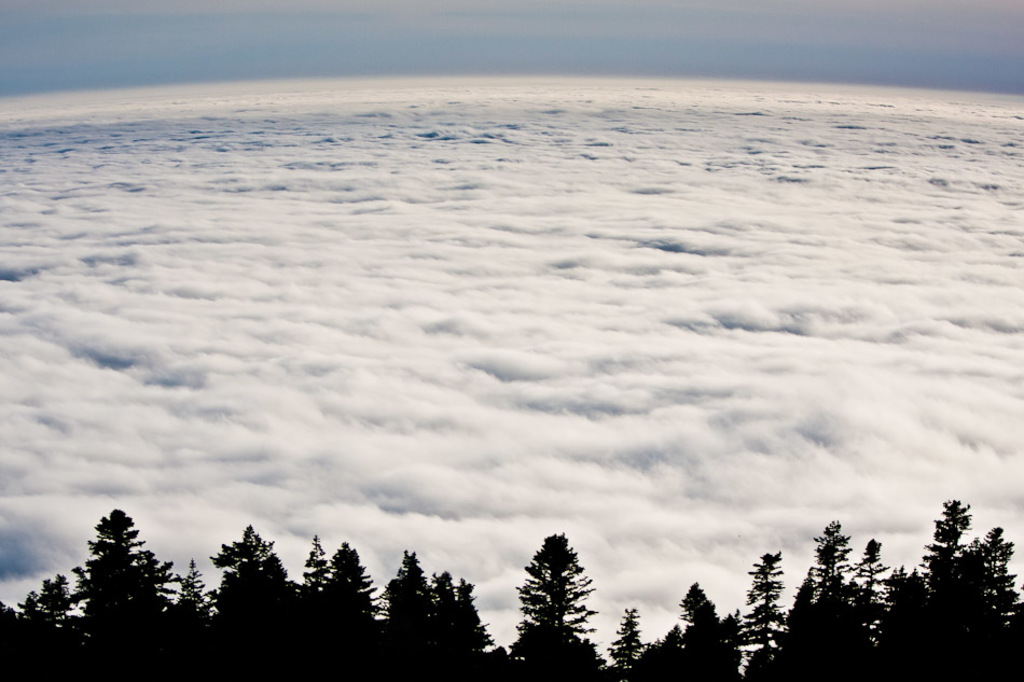Tree: (0, 498, 1020, 680), (520, 535, 603, 666)
